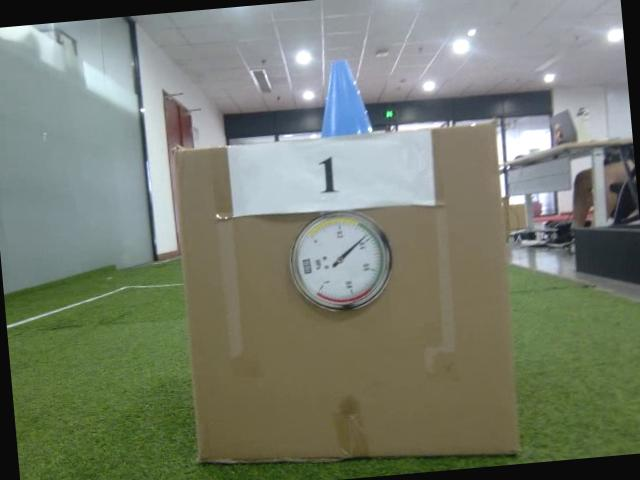1: (313, 154, 342, 198)
Dashboard: (286, 208, 398, 318)
blue_barrel: (313, 52, 373, 138)
ssi: (299, 256, 314, 276)
